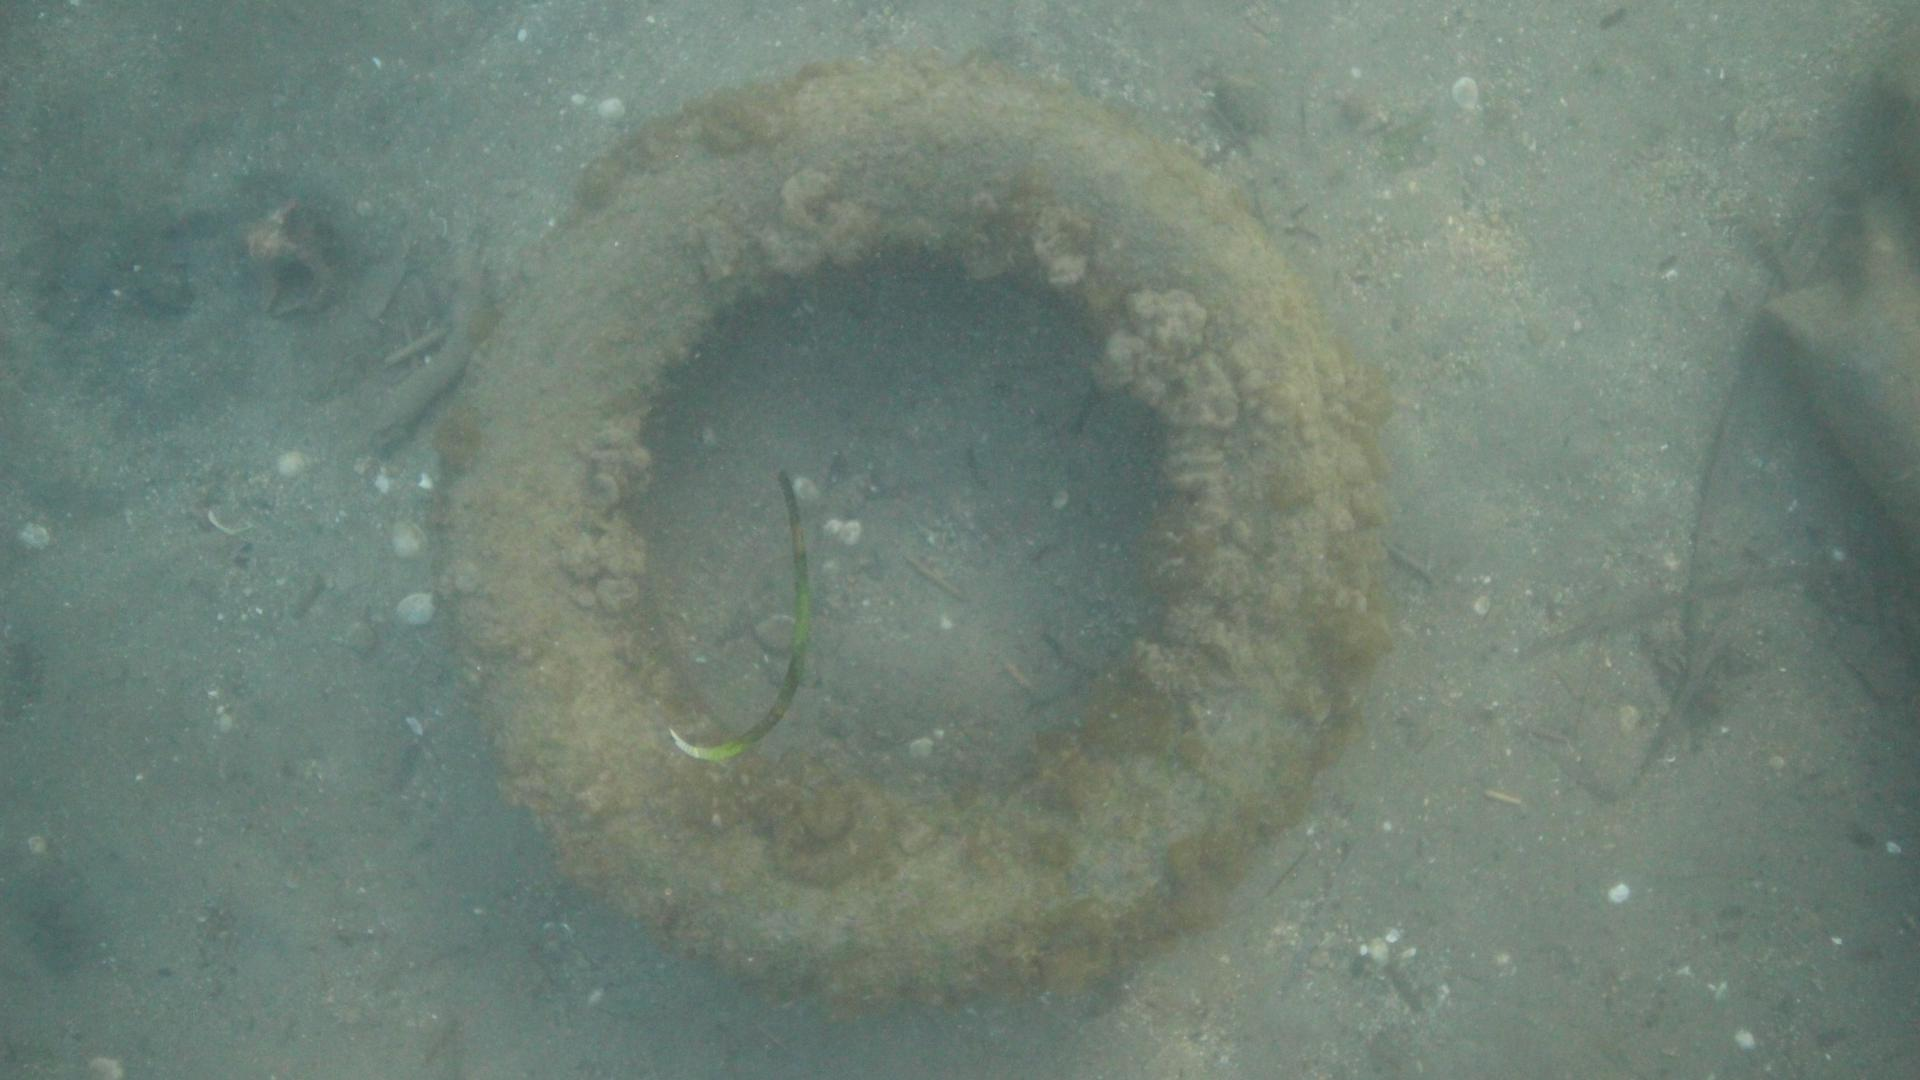tire: (435, 65, 1377, 1002)
